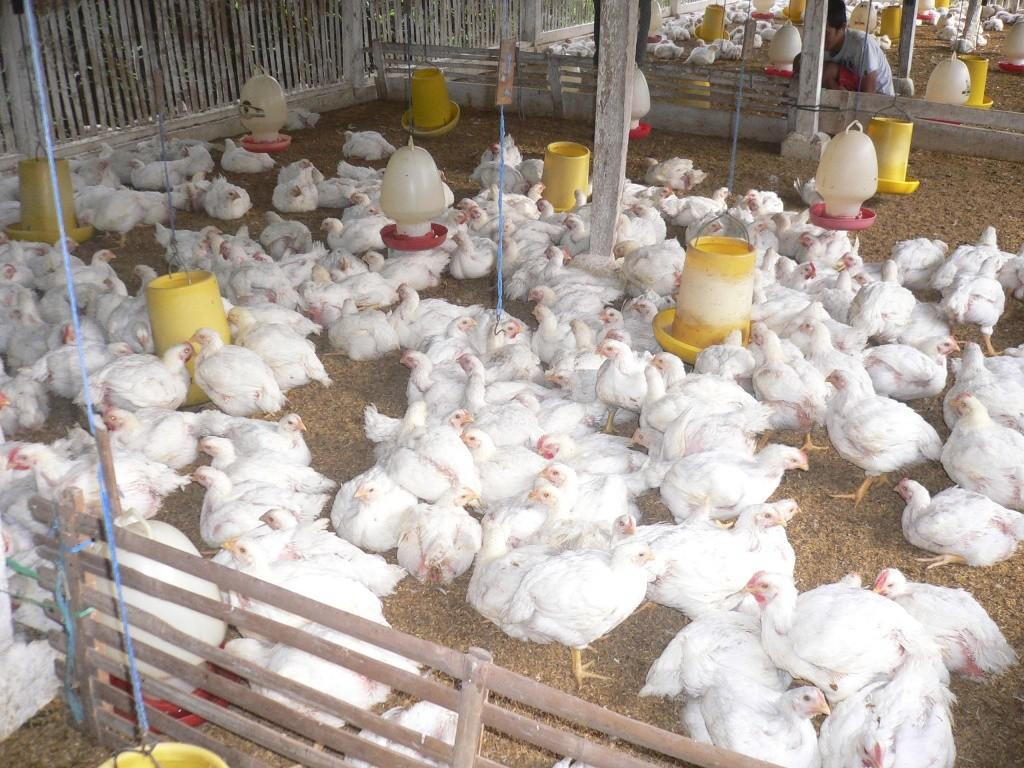chicken: (733, 570, 909, 683), (517, 537, 657, 666), (679, 647, 831, 761), (875, 565, 1019, 673), (3, 437, 180, 516), (824, 366, 942, 478), (655, 506, 787, 605), (831, 672, 960, 768), (894, 476, 1024, 560), (667, 449, 810, 511), (191, 329, 282, 423), (223, 306, 331, 383), (943, 393, 1024, 493), (334, 463, 414, 546), (84, 343, 189, 404), (100, 407, 197, 466), (877, 334, 963, 395), (596, 341, 660, 419), (949, 256, 1006, 341), (329, 296, 400, 359), (859, 257, 913, 336), (393, 283, 462, 327)
